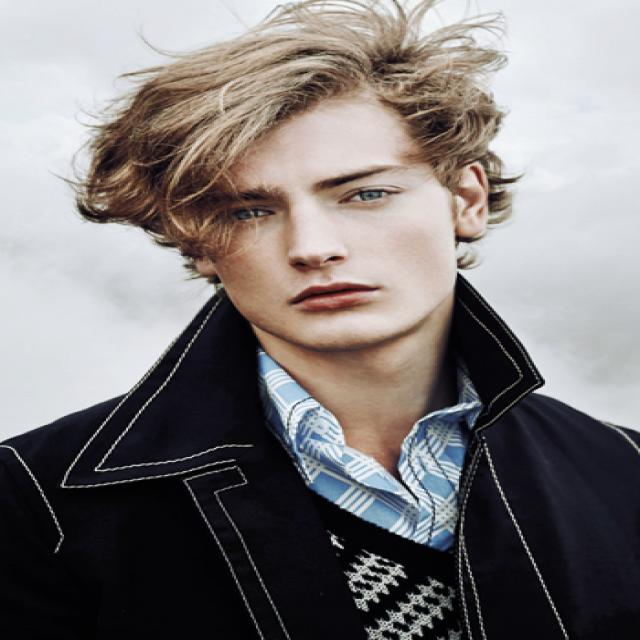earlobe: (456, 158, 489, 237), (456, 216, 482, 237), (196, 259, 218, 276)
eye: (339, 188, 394, 204), (221, 206, 275, 222)
nose: (290, 255, 352, 288)
